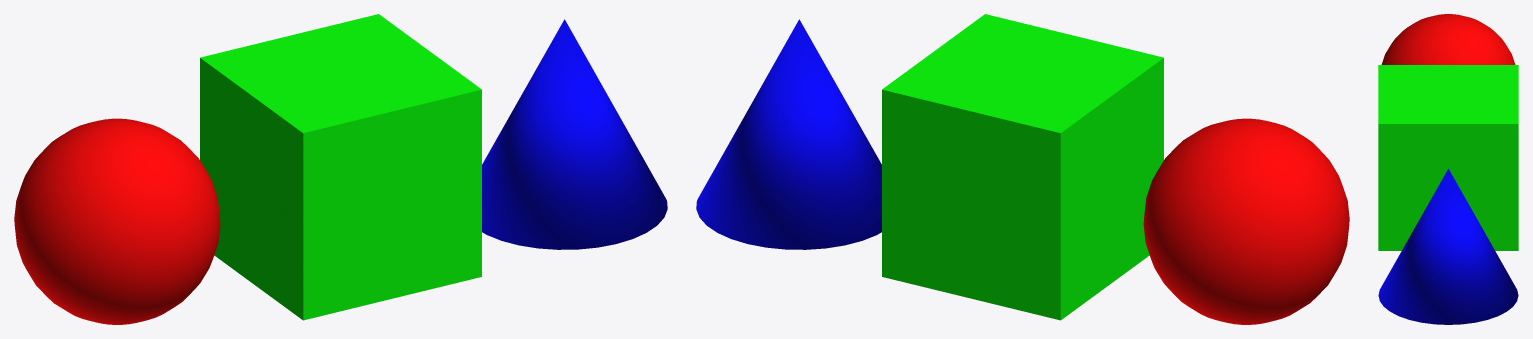
Rendered from basic_geo.gltf.
3 views of the same model, side by side, from view 1: azimuth 30°, elevation 25°; view 2: azimuth 150°, elevation 25°; view 3: azimuth 270°, elevation 25° (orthographic). The views are drawn at different scales.
Visible parts, largest first — view 1: Cube, Sphere, Cone; view 2: Cube, Sphere, Cone; view 3: Cube, Cone, Sphere.
Part boxes in pixels (x1,y1,x2,y2): Cube: (200, 14, 481, 320); Sphere: (14, 118, 220, 324); Cone: (482, 19, 667, 249); Cube: (882, 14, 1163, 320); Sphere: (1143, 118, 1349, 324); Cone: (696, 19, 881, 249); Cube: (1378, 65, 1518, 250); Cone: (1378, 168, 1518, 324); Sphere: (1381, 14, 1515, 64).
Size of the model in its own units: 7 by 2 by 2.
